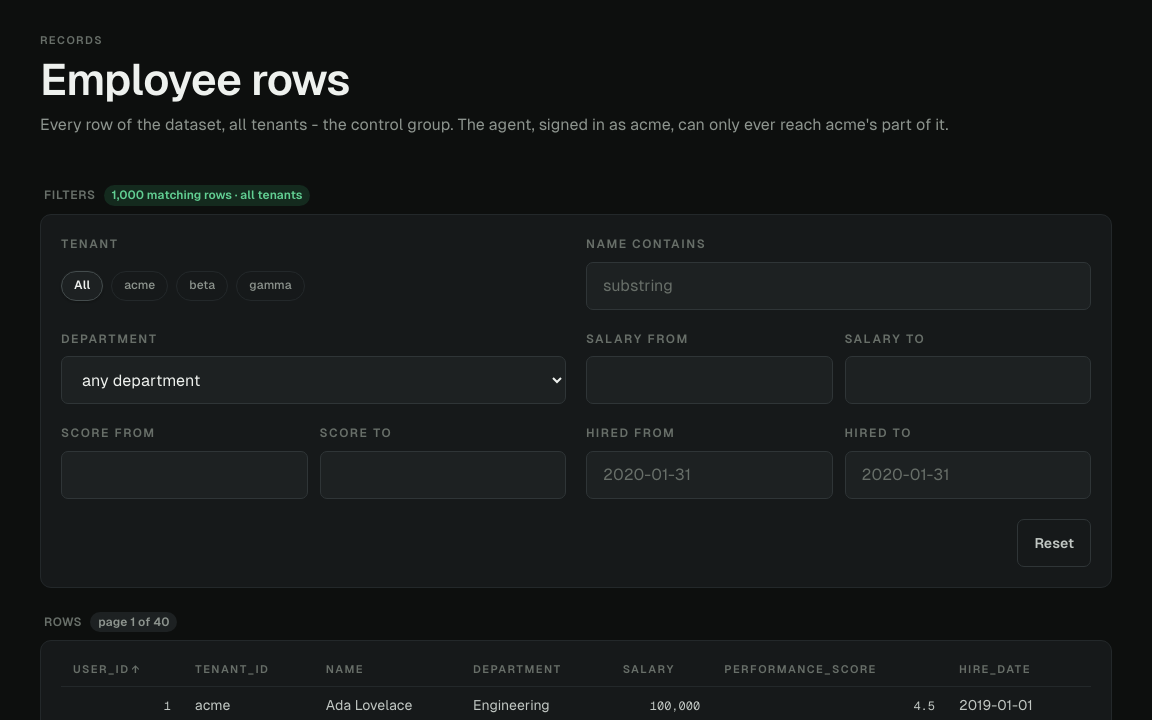
it: the records tab › never lets a slower earlier answer overwrite a newer one
The width and height of the screenshot is (1152, 720).
Click the button "acme": (140, 286) [111,270,168,300]
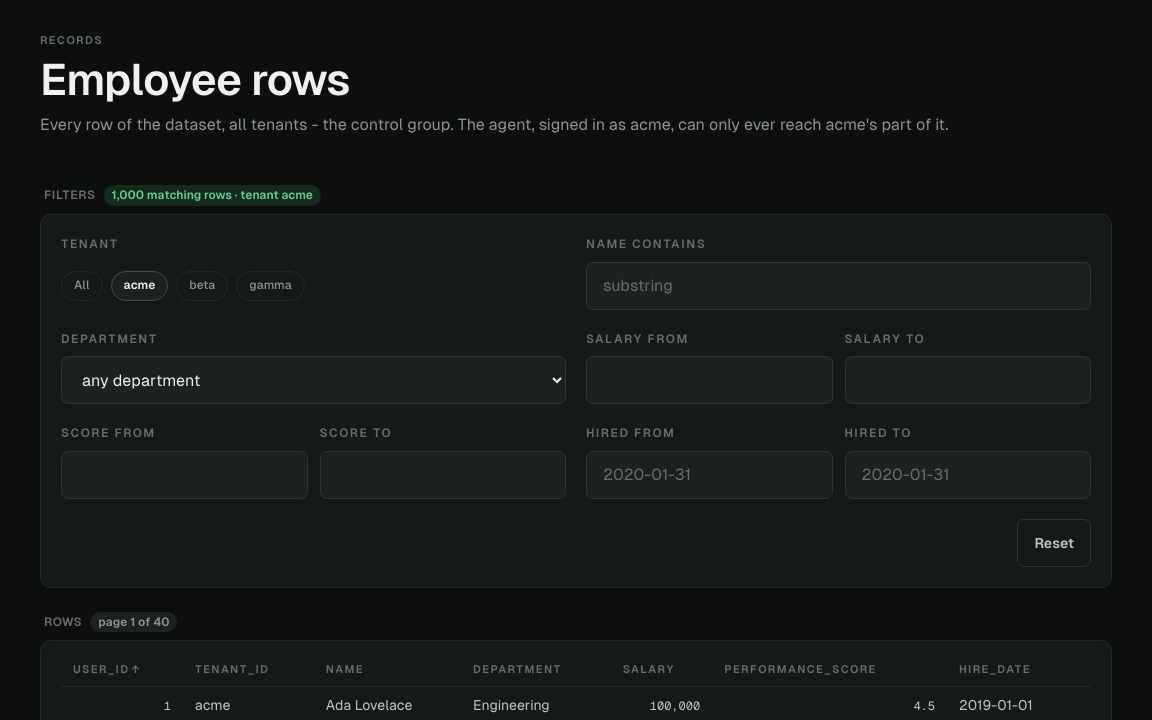
Click the button "beta": (202, 286) [176,270,228,300]
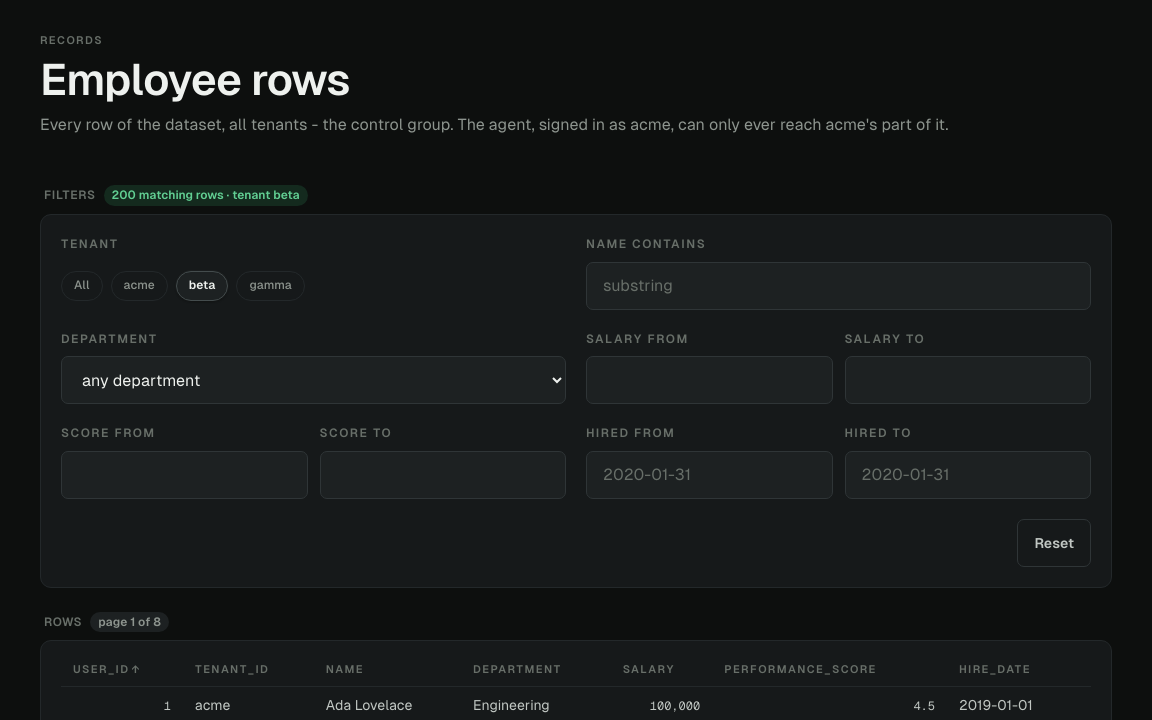
Now the text "200 matching rows · tenant beta" is shown, box [104,185,308,206]
